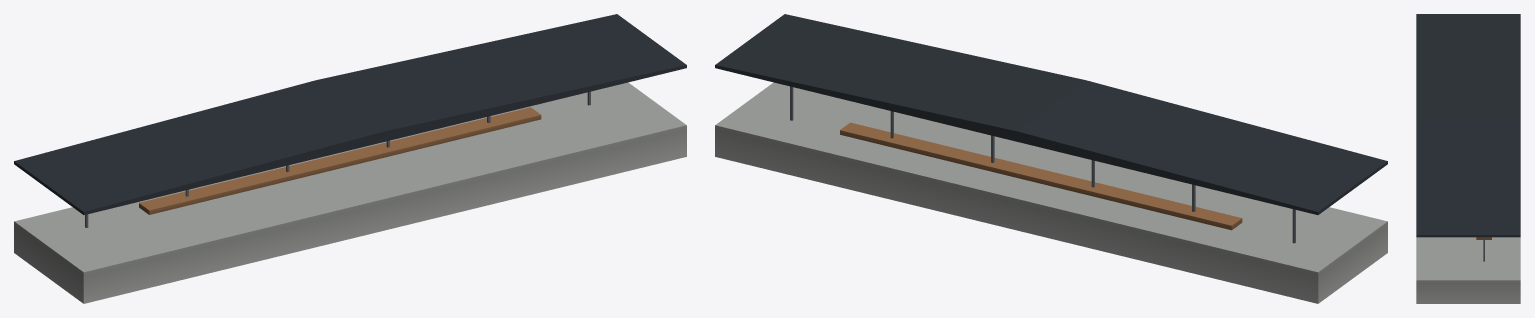
File: kalbaskraal-station.glb
The picture shows the model from 3 angles, left to right: view 1: azimuth 30°, elevation 25°; view 2: azimuth 150°, elevation 25°; view 3: azimuth 270°, elevation 25°; orthographic projection. The views are drawn at different scales.
Visible parts, largest first — view 1: kalbaskraal-station; view 2: kalbaskraal-station; view 3: kalbaskraal-station.
Part boxes in pixels (x1,y1,x2,y2): kalbaskraal-station: (14, 14, 686, 303); kalbaskraal-station: (715, 14, 1387, 303); kalbaskraal-station: (1416, 14, 1520, 303).
Bounding box in the file's own units: 70 × 11 × 14.
